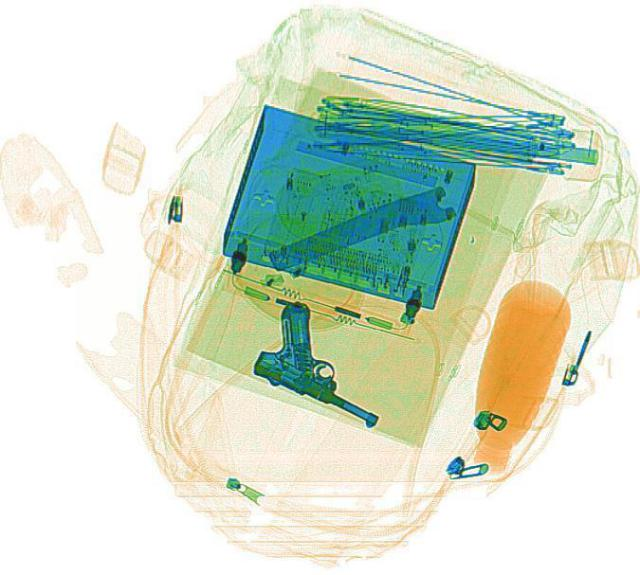Gun: (235, 294, 419, 430)
